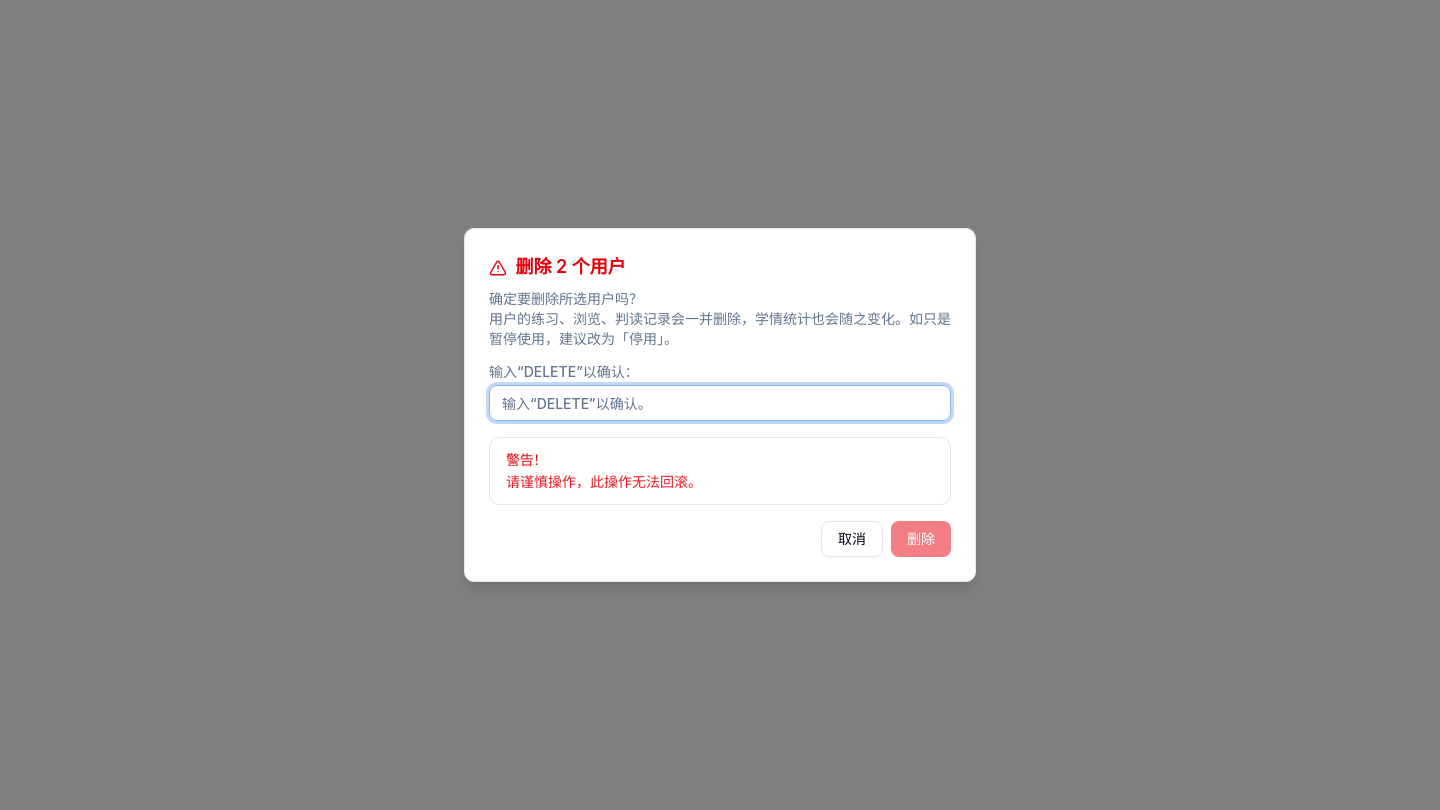
Test: UsersMultiDeleteDialog › enables delete only after typing DELETE
Type "wrong-input" into the field labelled "输入“DELETE”以确认：" at point(720, 403), box x1=489 y1=385 x2=951 y2=421
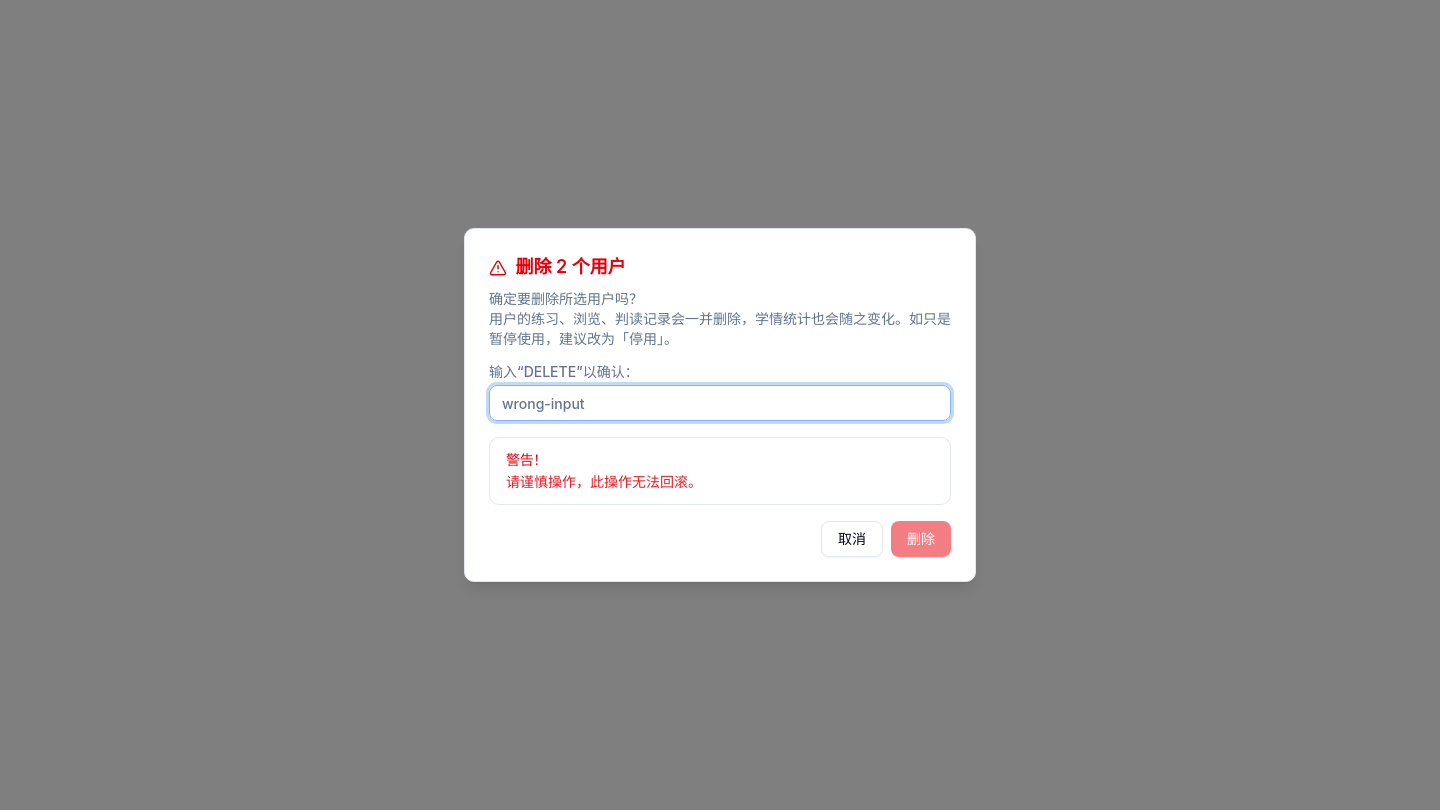
expect the button "删除" is disabled: met, box x1=891 y1=521 x2=951 y2=557
Replace the text in the field labelled "输入“DELETE”以确认：" with "DELETE" at point(720, 403), box x1=489 y1=385 x2=951 y2=421
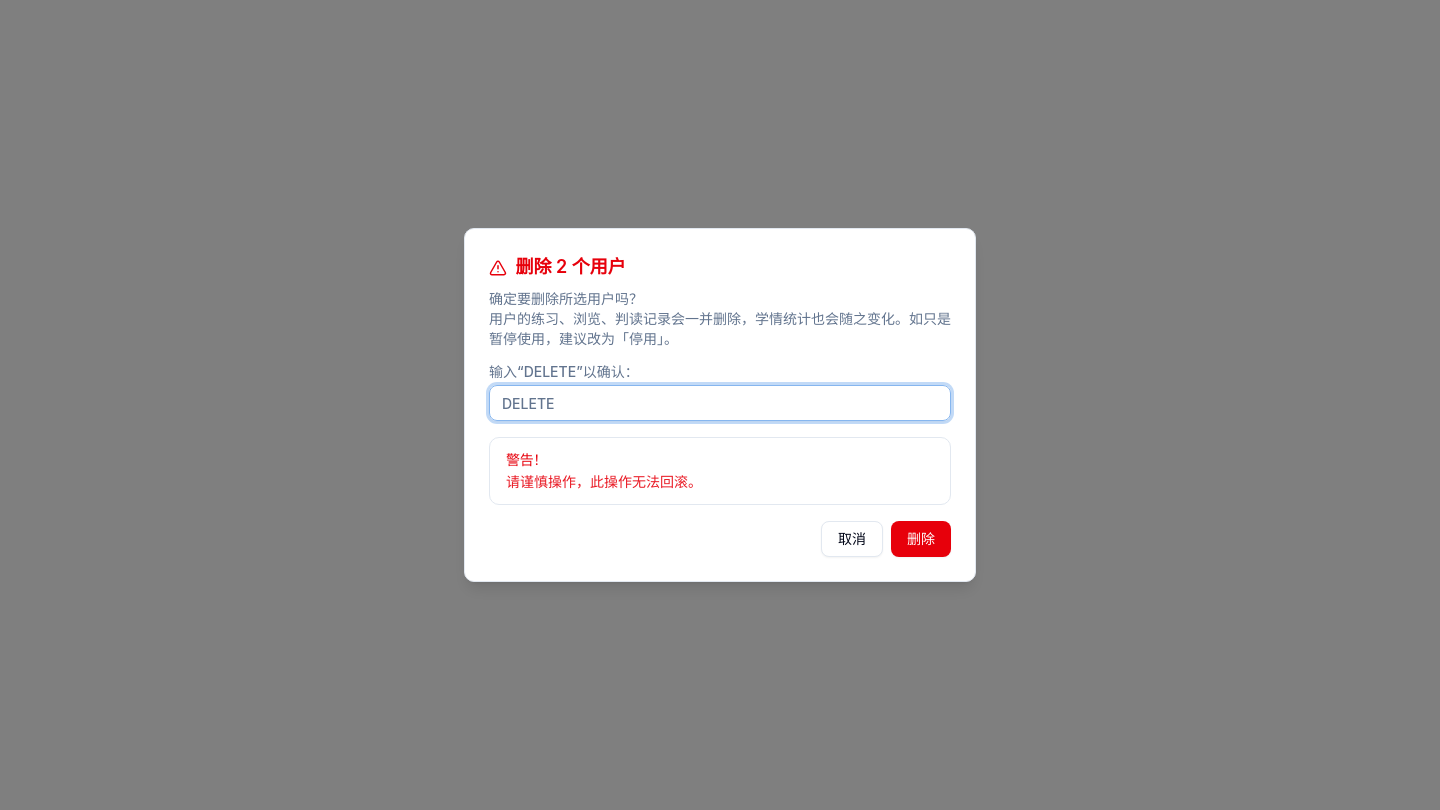
expect the button "删除" is enabled: met, box x1=891 y1=521 x2=951 y2=557
